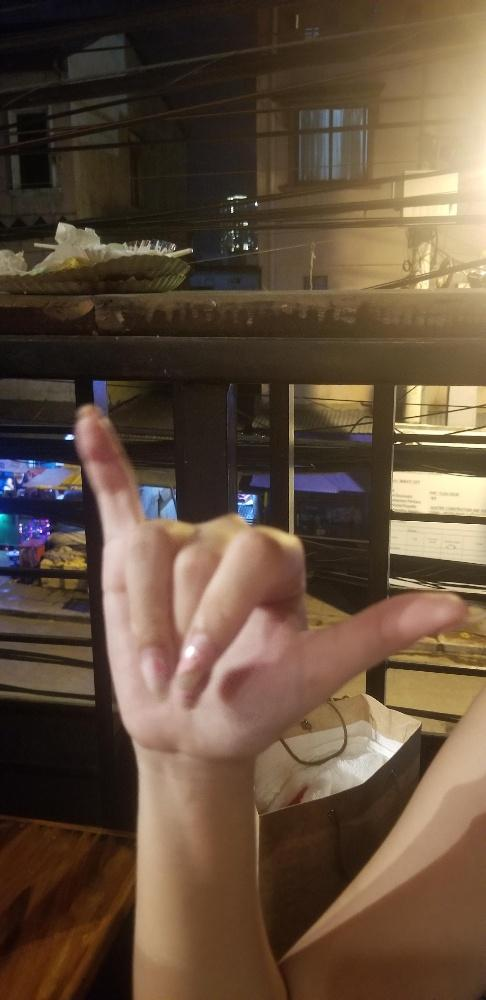y: (72, 402, 469, 766)
